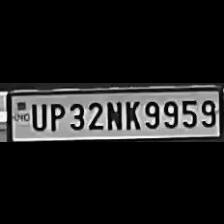2: (86, 98, 104, 130)
3: (66, 98, 84, 130)
5: (178, 96, 198, 128)
9: (198, 96, 218, 127), (142, 96, 160, 128), (160, 96, 178, 128)
K: (122, 96, 140, 130)
N: (104, 98, 122, 130)
P: (47, 99, 65, 130)
U: (28, 100, 46, 130)
